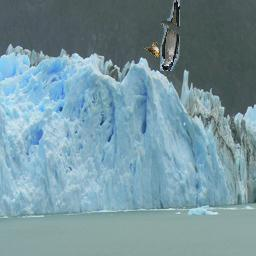Sparrow: (144, 43, 161, 58)
Swallow: (160, 0, 180, 71)
